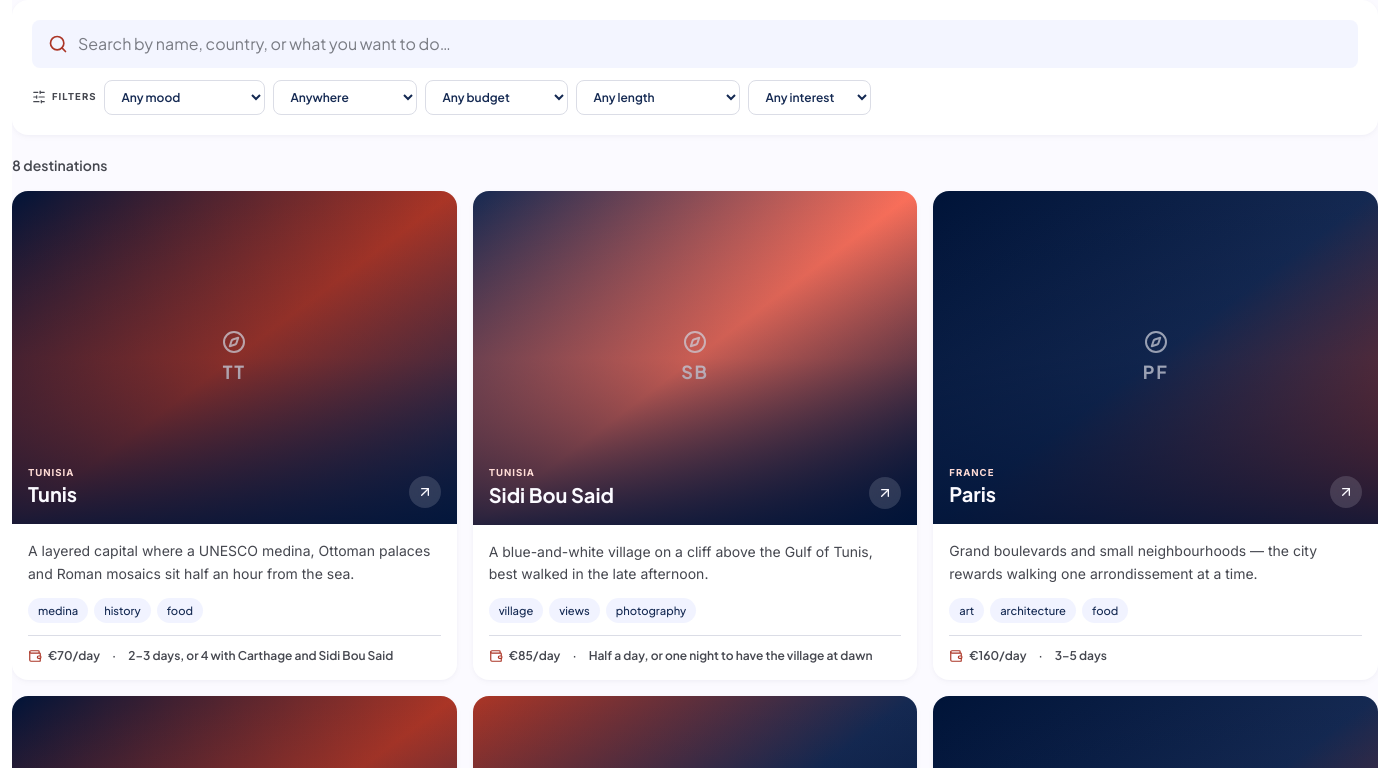
it: DestinationExplorer › explains an empty result and resets in one click
Type "atlantis" into the search field. click: (710, 44)
box: [78,32,1342,56]
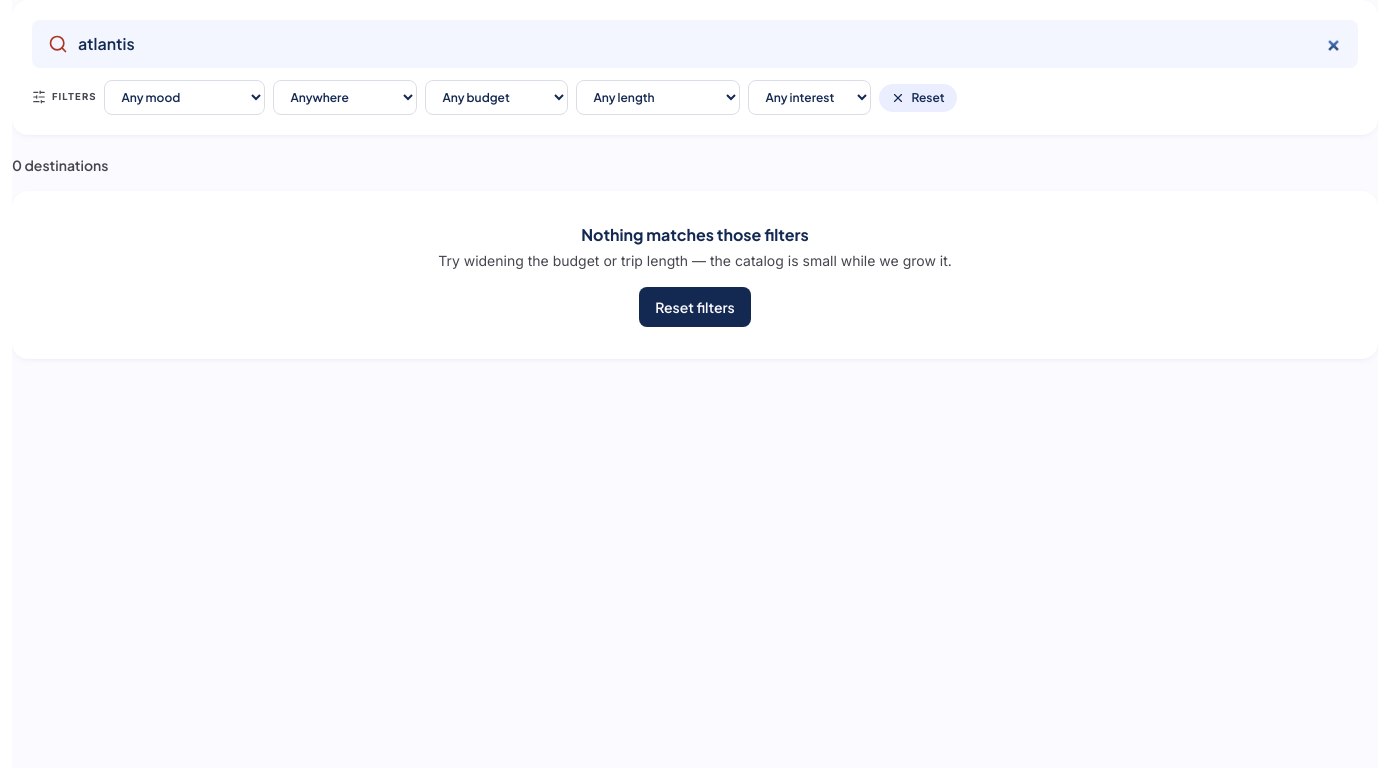
expect no list items are shown: met
expect the text "Nothing matches those filters" is shown: met, box [581,224,809,245]
Click the button "Reset filters". click: (695, 307)
box: [639,287,751,327]
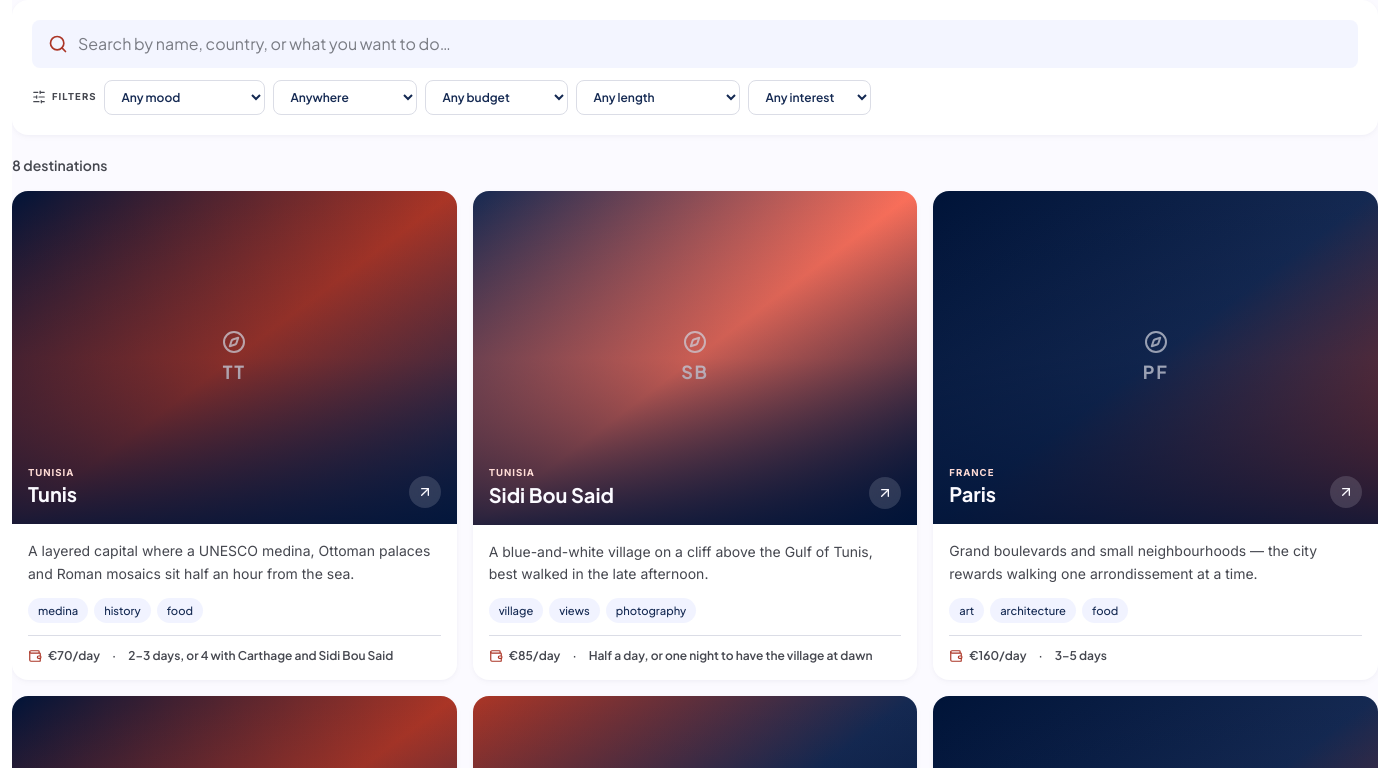
expect the number of list items is 8: met
expect the search field is empty: met, box [78,32,1342,56]
